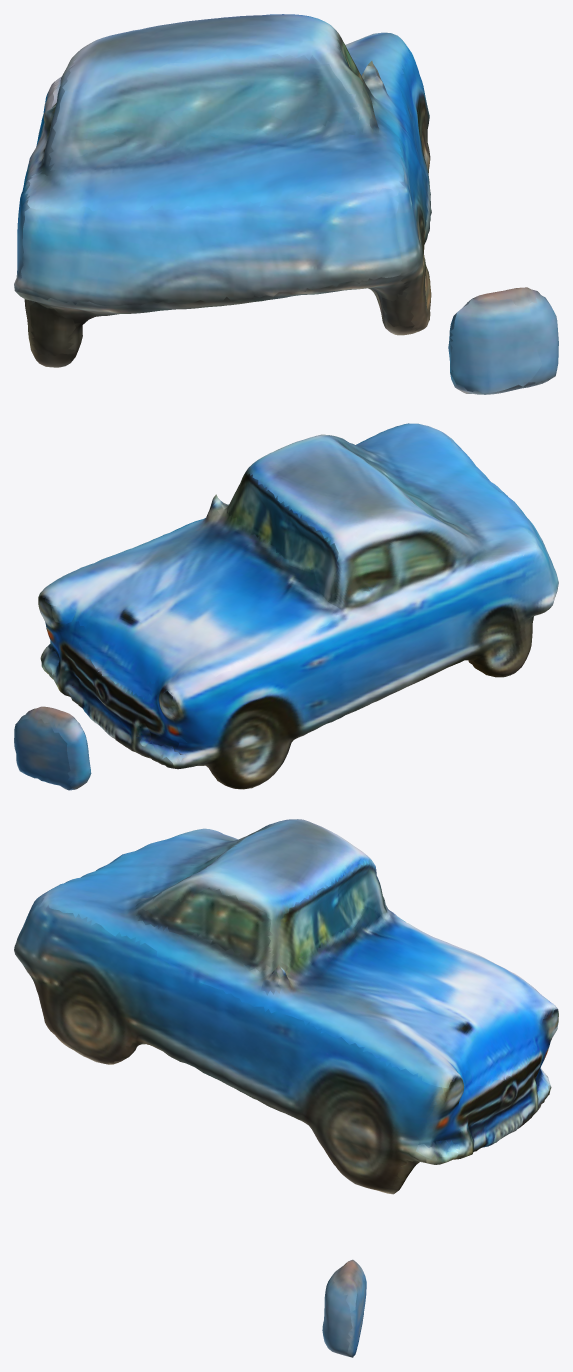
File: AddABlueCar-56d1.glb
3 views of the same model, one above another, from view 1: azimuth 30°, elevation 25°; view 2: azimuth 150°, elevation 25°; view 3: azimuth 270°, elevation 25° (orthographic). The views are drawn at different scales.
Parts seen in each view (by area): view 1: world; view 2: world; view 3: world.
Part boxes in pixels (box(x1,y1,x2,y2)): world: box(14, 14, 558, 394); world: box(14, 423, 558, 790); world: box(14, 819, 558, 1357).
Size of the model in its own units: 0.9309 by 0.668 by 0.8874.
1 material, 1 textured.
